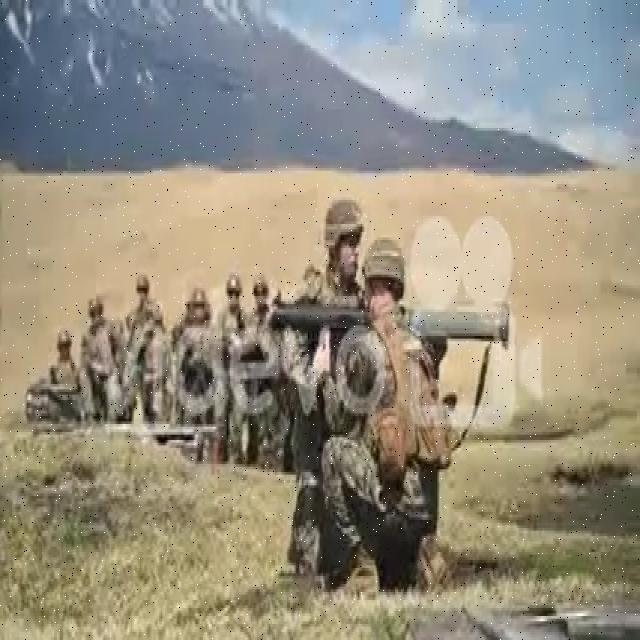bazooka: (267, 283, 515, 356)
